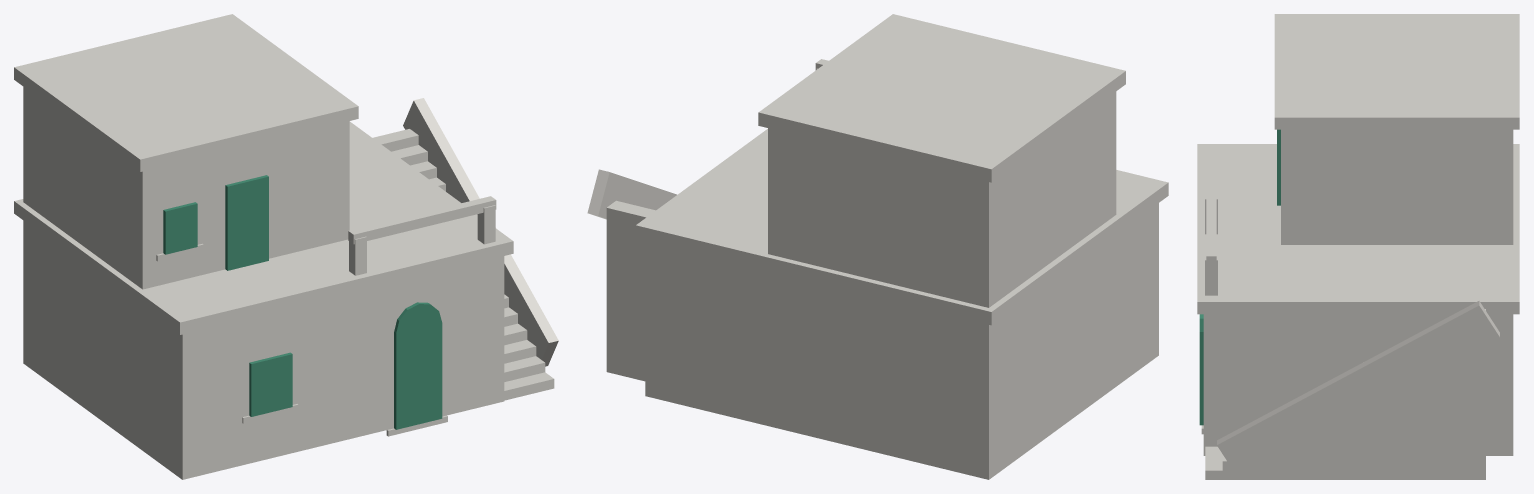
The model's file is house_b.glb.
3 renders of one model, left to right at view 1: azimuth 30°, elevation 25°; view 2: azimuth 150°, elevation 25°; view 3: azimuth 270°, elevation 25°, orthographic. The views are drawn at different scales.
Visible parts, largest first — view 1: SG_House_B; view 2: SG_House_B; view 3: SG_House_B.
Boxes of the visible parts, x1=… form: SG_House_B: x1=14, y1=14, x2=558, y2=479; SG_House_B: x1=587, y1=14, x2=1168, y2=479; SG_House_B: x1=1197, y1=14, x2=1519, y2=479.
Size of the model in its own units: 8.45 by 6.25 by 6.25.
